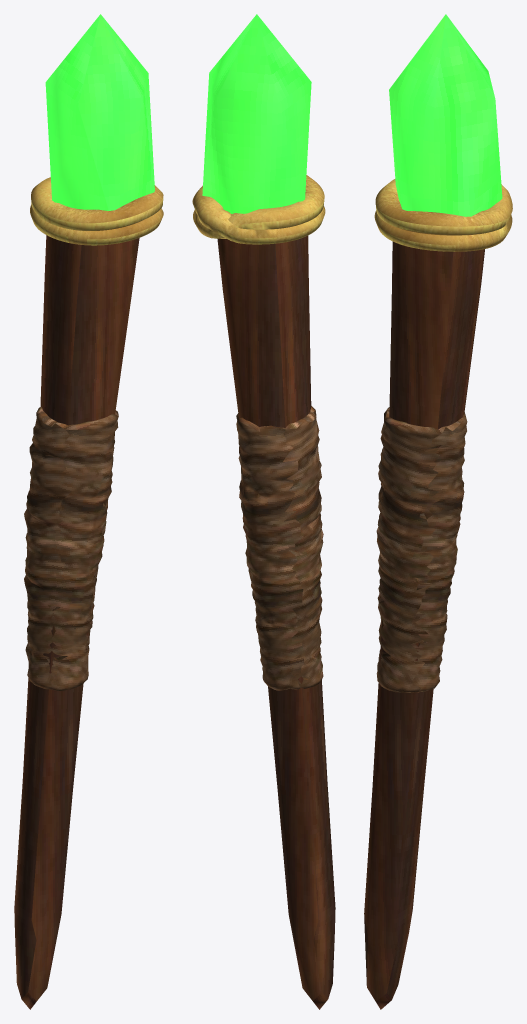
Rendered from Staff.gltf.
3 renders of one model, left to right at view 1: azimuth 30°, elevation 25°; view 2: azimuth 150°, elevation 25°; view 3: azimuth 330°, elevation 25°, orthographic. The views are drawn at different scales.
Parts seen in each view (by area): view 1: staff; view 2: staff; view 3: staff.
Part boxes in pixels (x1,y1,x2,y2): staff: (14,14,163,1009); staff: (192,14,335,1009); staff: (364,14,512,1009).
Size of the model in its own units: 1.08 by 7.67 by 0.947.
1 material, 1 textured.
